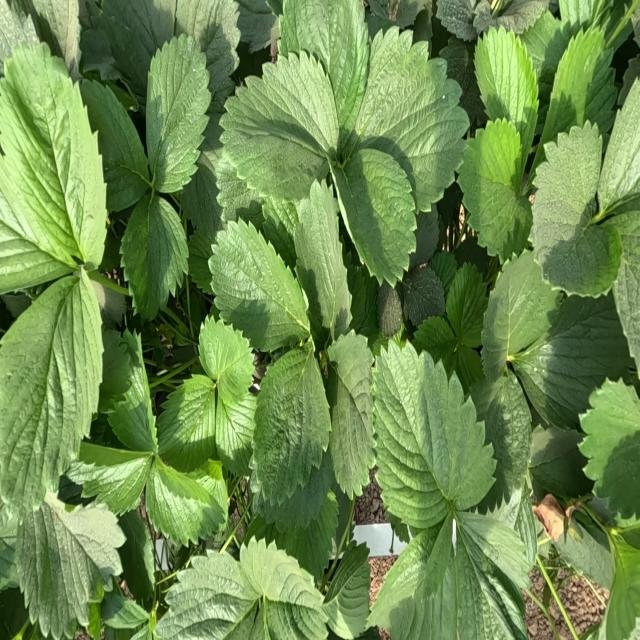Leaves: (0, 270, 103, 527), (1, 44, 106, 286), (338, 26, 469, 213), (373, 345, 493, 533), (220, 52, 339, 202), (514, 295, 631, 429), (14, 497, 123, 638), (532, 126, 621, 295), (253, 344, 330, 514), (210, 220, 309, 350), (279, 0, 370, 141), (335, 149, 415, 283), (369, 520, 457, 639), (458, 120, 531, 260), (147, 37, 211, 192), (483, 251, 558, 378), (597, 65, 639, 290), (456, 513, 531, 639), (158, 550, 259, 639), (81, 78, 147, 211), (240, 538, 327, 638), (120, 191, 187, 319), (295, 183, 350, 336), (579, 378, 639, 514), (475, 26, 537, 154), (92, 0, 174, 95), (327, 335, 374, 496), (544, 26, 603, 144), (101, 331, 157, 451), (146, 459, 224, 544), (266, 491, 339, 581), (483, 371, 531, 496), (176, 0, 240, 91), (156, 375, 215, 472), (67, 448, 154, 512), (264, 455, 335, 530), (199, 316, 255, 405), (530, 425, 592, 501), (323, 541, 370, 638), (520, 11, 566, 104), (556, 517, 614, 590), (490, 481, 537, 569), (446, 263, 487, 347), (117, 509, 154, 602), (215, 393, 255, 475), (602, 552, 639, 639), (32, 0, 79, 68), (417, 519, 454, 603), (404, 264, 444, 327), (236, 0, 276, 51), (409, 207, 439, 268), (560, 1, 612, 35), (436, 0, 477, 39), (377, 281, 403, 338), (103, 598, 148, 627)
